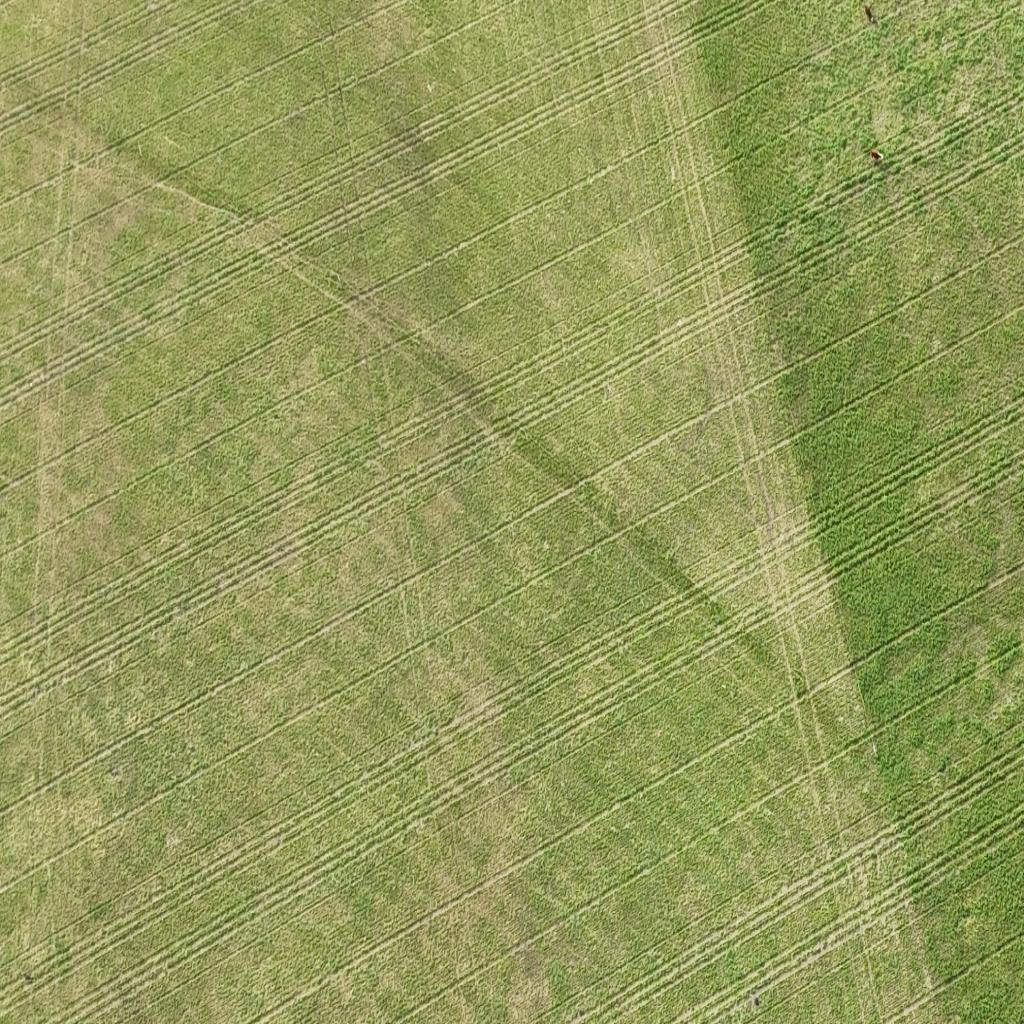cow: (868, 146, 884, 167), (863, 4, 877, 27)
